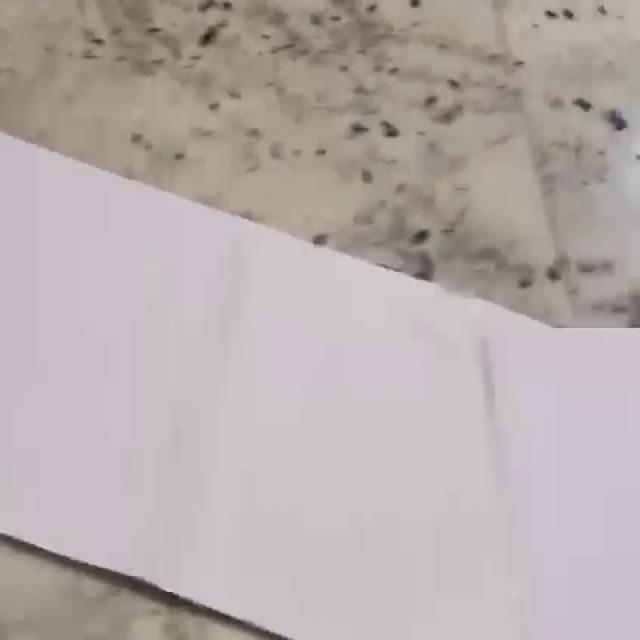road: (0, 132, 640, 640)
